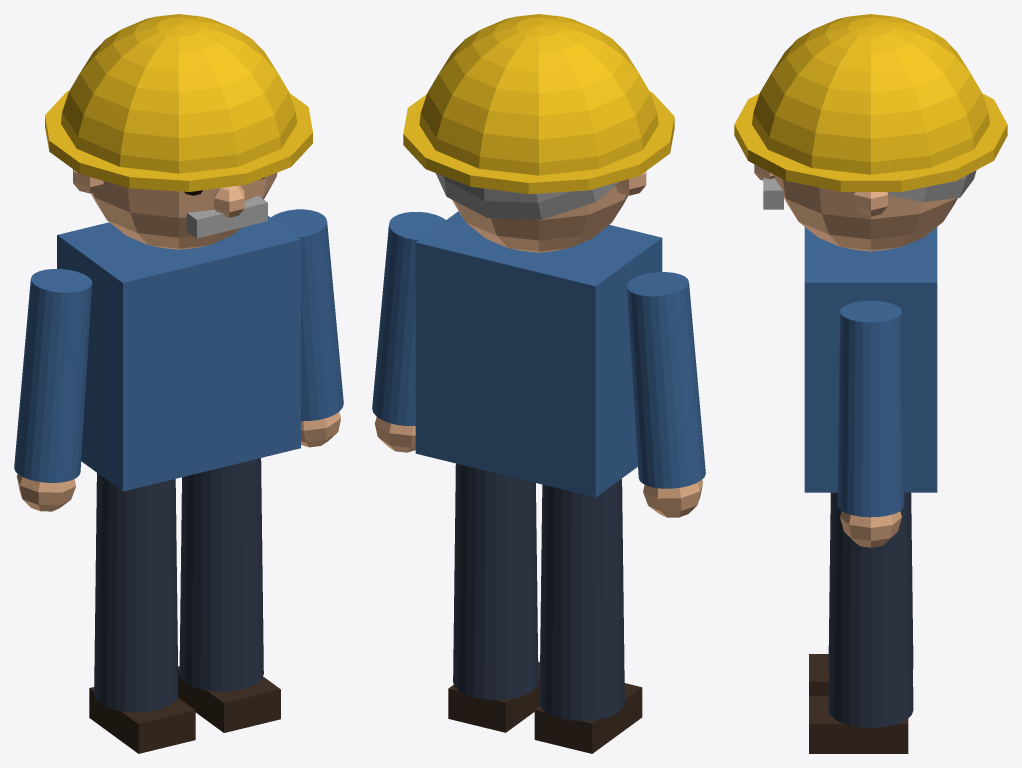
The model's file is PETROVICH.glb.
3 renders of one model, left to right at view 1: azimuth 30°, elevation 25°; view 2: azimuth 150°, elevation 25°; view 3: azimuth 270°, elevation 25°, orthographic.
Visible parts, largest first — view 1: torso, head, leg_left, leg_right, arm_left, arm_right; view 2: torso, head, leg_left, leg_right, arm_left, arm_right; view 3: head, torso, leg_right, arm_right, leg_left.
Part boxes in pixels (left/top/right/bottom): torso: left=57, top=216, right=300, bottom=491; head: left=45, top=14, right=312, bottom=249; leg_left: left=89, top=473, right=195, bottom=753; leg_right: left=178, top=458, right=280, bottom=732; arm_left: left=14, top=269, right=92, bottom=511; arm_right: left=271, top=209, right=343, bottom=447; torso: left=415, top=211, right=662, bottom=497; head: left=403, top=14, right=674, bottom=252; leg_left: left=534, top=478, right=642, bottom=753; leg_right: left=448, top=463, right=540, bottom=732; arm_left: left=626, top=272, right=705, bottom=517; arm_right: left=372, top=212, right=445, bottom=452; head: left=734, top=14, right=1007, bottom=251; torso: left=804, top=227, right=937, bottom=492; leg_right: left=809, top=492, right=913, bottom=753; arm_right: left=837, top=301, right=904, bottom=547; leg_left: left=809, top=493, right=913, bottom=695.
Size of the model in its own units: 0.8834 by 1.81 by 0.6468.
